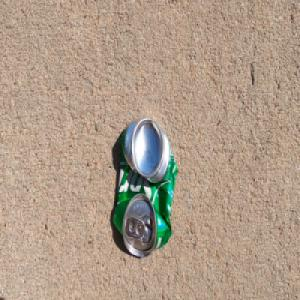SodaCan: (112, 115, 178, 259)
